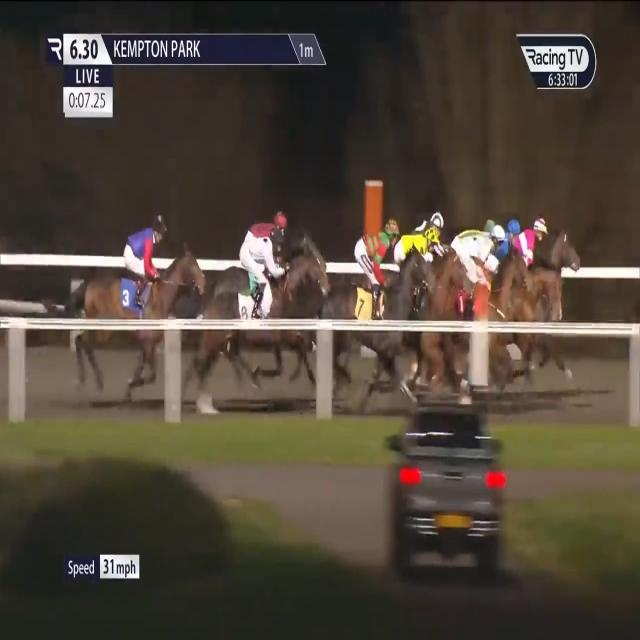horses-racing: (212, 220, 340, 378), (75, 213, 203, 370), (480, 213, 567, 349), (341, 211, 412, 346), (436, 222, 504, 332), (399, 202, 455, 319), (236, 206, 287, 250), (486, 218, 521, 279)
